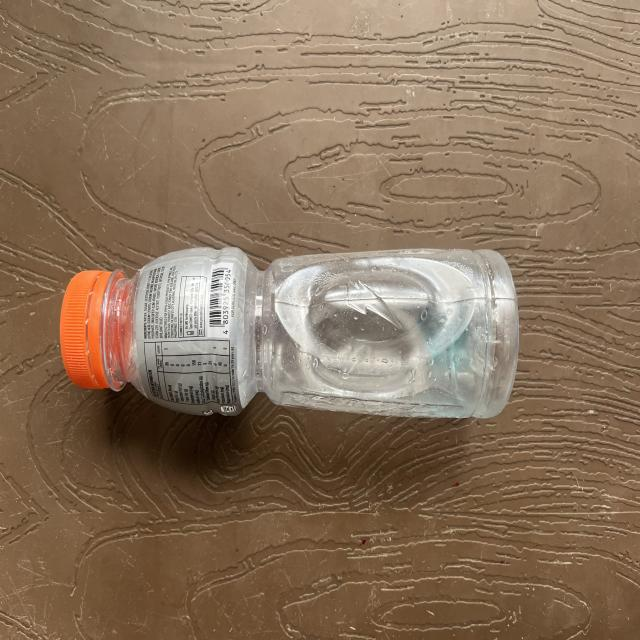REJECT: (62, 234, 522, 440)
